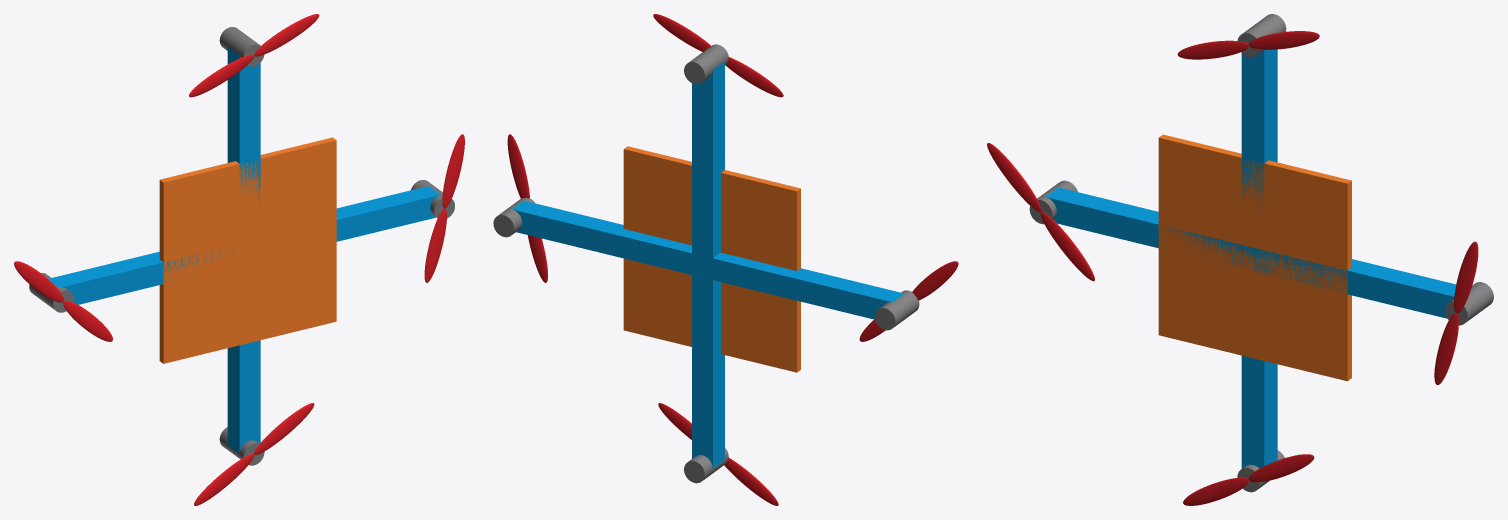
Rendered from ESPDrone.obj.
The picture shows the model from 3 angles, left to right: view 1: azimuth 30°, elevation 25°; view 2: azimuth 150°, elevation 25°; view 3: azimuth 330°, elevation 25°; orthographic projection. The views are drawn at different scales.
Parts seen in each view (by area): view 1: Object.1, Object.3, Object.2, Object.7, Object.6, Object.5, Object.15, Object.14, Object.9, Object.8, Object.11, Object.12 (+3 smaller); view 2: Object.1, Object.2, Object.3, Object.10, Object.7, Object.6, Object.8, Object.14, Object.12, Object.9, Object.13, Object.4 (+1 smaller); view 3: Object.1, Object.2, Object.3, Object.12, Object.11, Object.4, Object.8, Object.5, Object.6, Object.9, Object.15, Object.14 (+2 smaller).
Boxes of the visible parts, x1,y1,x2,y2 form: Object.1: [159, 137, 336, 363]; Object.3: [227, 47, 260, 453]; Object.2: [48, 186, 440, 304]; Object.7: [219, 27, 264, 66]; Object.6: [442, 134, 464, 208]; Object.5: [424, 208, 446, 282]; Object.15: [254, 403, 314, 454]; Object.14: [194, 454, 254, 505]; Object.9: [254, 14, 319, 56]; Object.8: [189, 54, 254, 97]; Object.11: [63, 300, 112, 341]; Object.12: [14, 261, 63, 302]; Object.1: [623, 146, 800, 372]; Object.2: [512, 200, 904, 319]; Object.3: [692, 61, 724, 468]; Object.10: [874, 290, 919, 330]; Object.7: [684, 44, 728, 84]; Object.6: [507, 134, 529, 198]; Object.8: [725, 57, 783, 97]; Object.14: [724, 458, 778, 505]; Object.12: [912, 261, 958, 300]; Object.9: [653, 14, 710, 51]; Object.13: [684, 448, 728, 483]; Object.4: [493, 198, 535, 237]; Object.1: [1158, 134, 1351, 381]; Object.2: [1046, 187, 1473, 318]; Object.3: [1241, 49, 1277, 468]; Object.12: [987, 143, 1041, 212]; Object.11: [1040, 211, 1094, 281]; Object.4: [1445, 282, 1493, 325]; Object.8: [1177, 40, 1248, 59]; Object.5: [1434, 313, 1458, 384]; Object.6: [1454, 241, 1478, 313]; Object.9: [1248, 31, 1319, 49]; Object.15: [1248, 454, 1314, 482]; Object.14: [1183, 477, 1248, 505].
Size of the model in its own units: 130 by 128 by 12.5.
